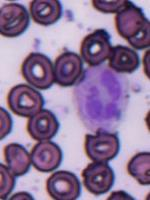N: (73, 66, 130, 130)
